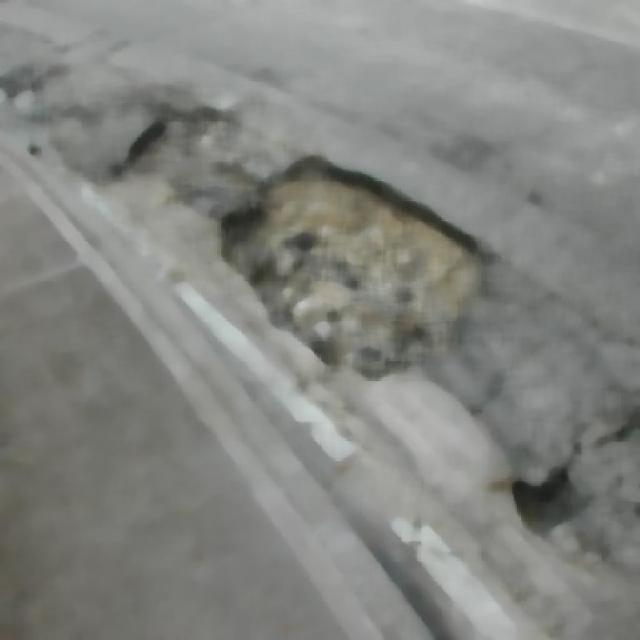Pothole: (219, 145, 487, 390), (122, 100, 247, 206)
